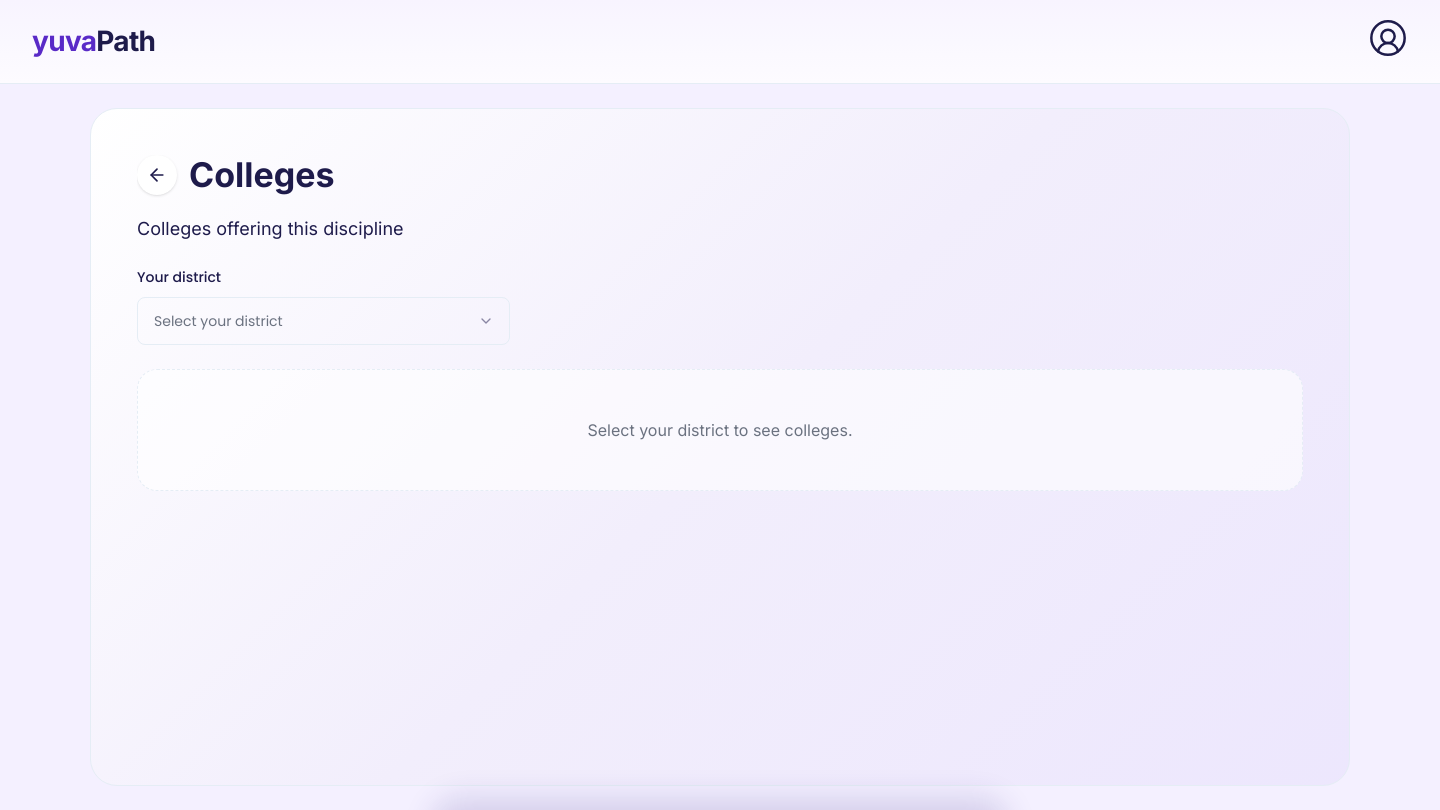
CollegePage — pick a district first › picking a district requests it as a hard filter and lists every returned college with the count
This screenshot has width=1440, height=810.
Select "Chennai" in the dropdown named "Your district" at x=323, y=321, box top-left (137, 297), bottom-right (510, 345)
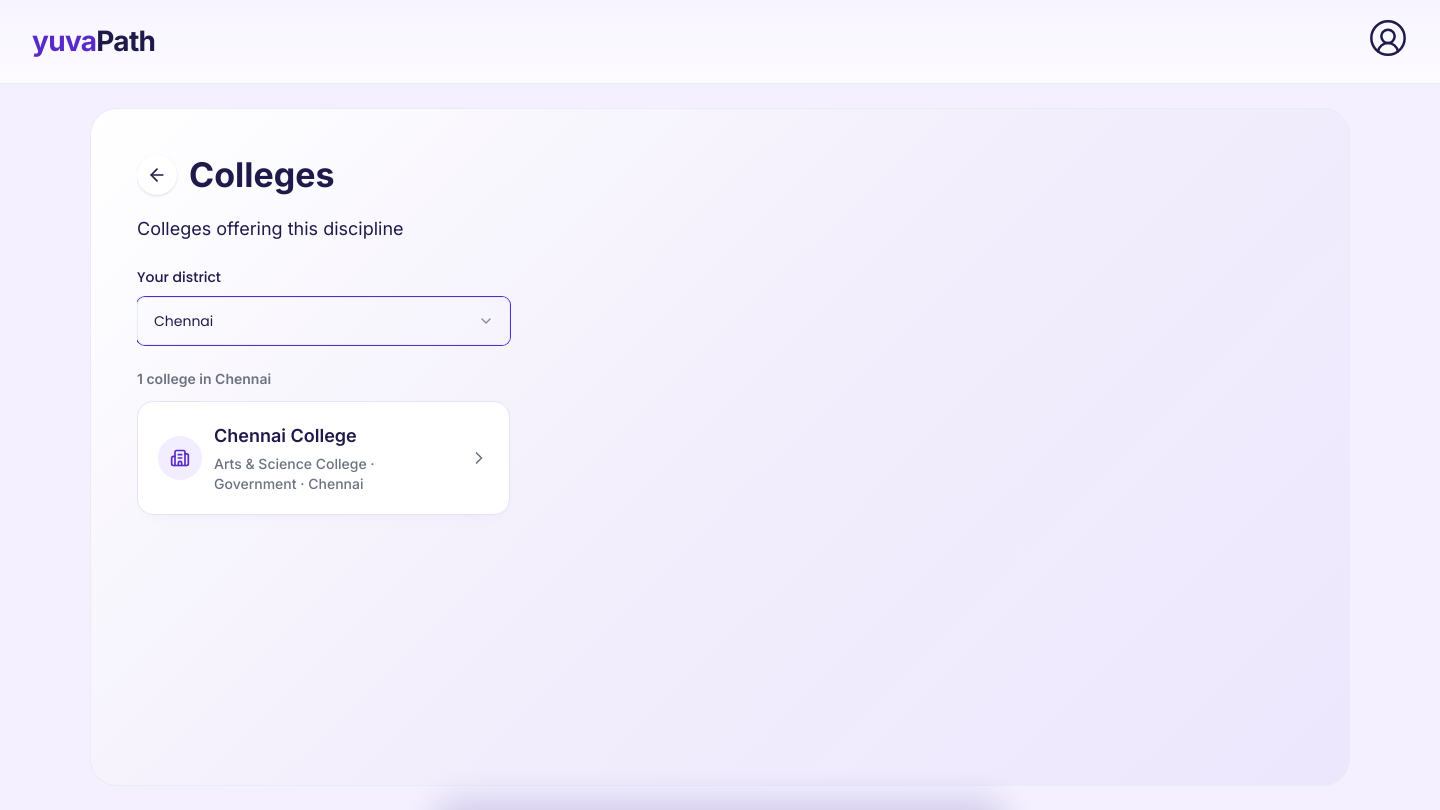
expect the text "Chennai College" is shown: met, box top-left (214, 425), bottom-right (357, 446)
expect the text "1 college in Chennai" is shown: met, box top-left (137, 370), bottom-right (271, 387)
